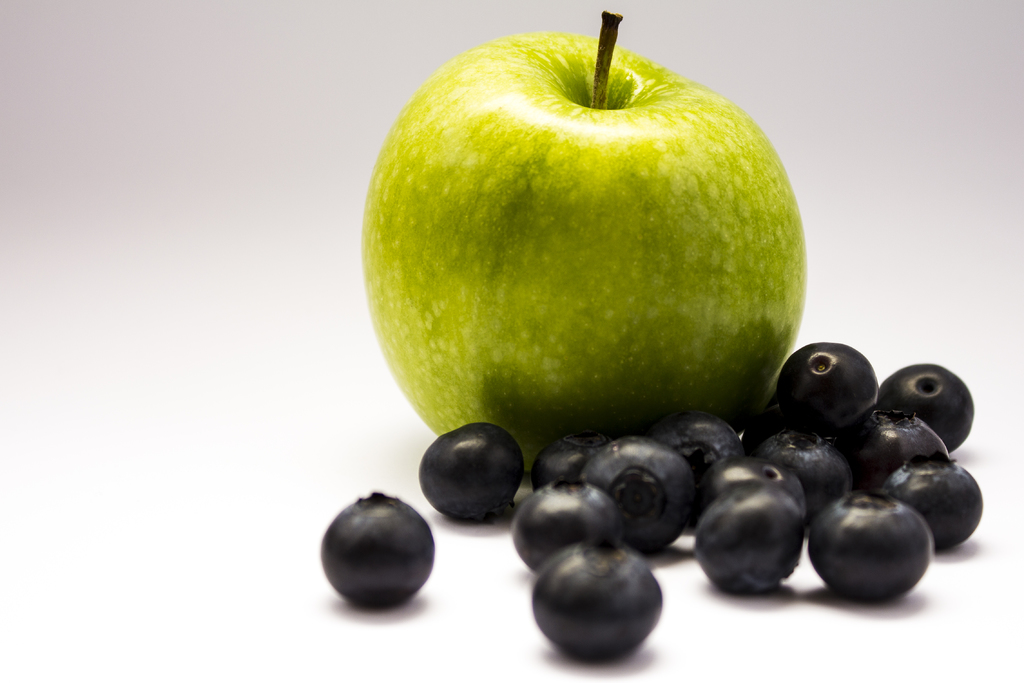Apple: (355, 19, 826, 469)
